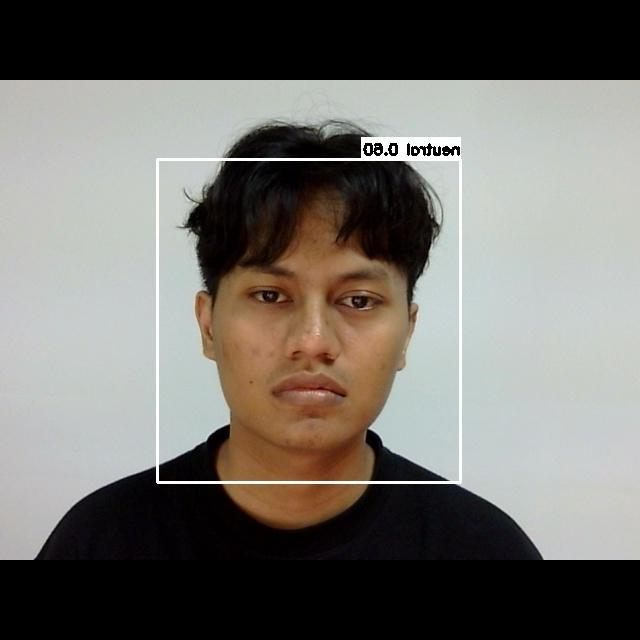Natural: (214, 250, 426, 434)
